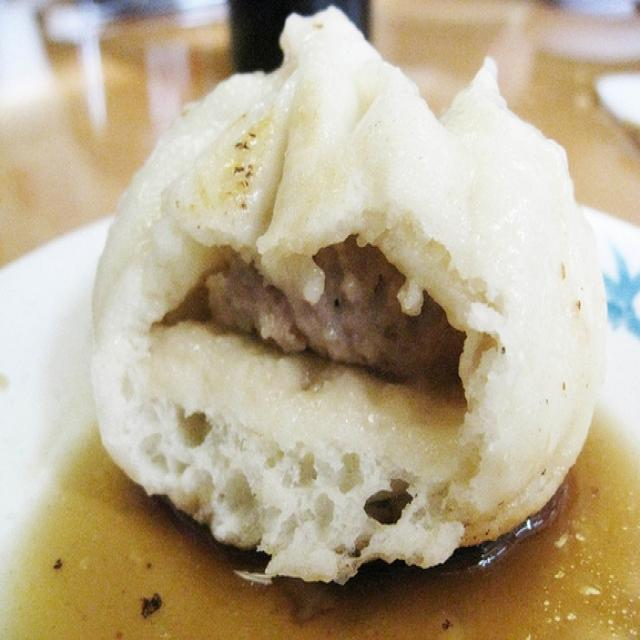带馅早点: (48, 7, 608, 615)
